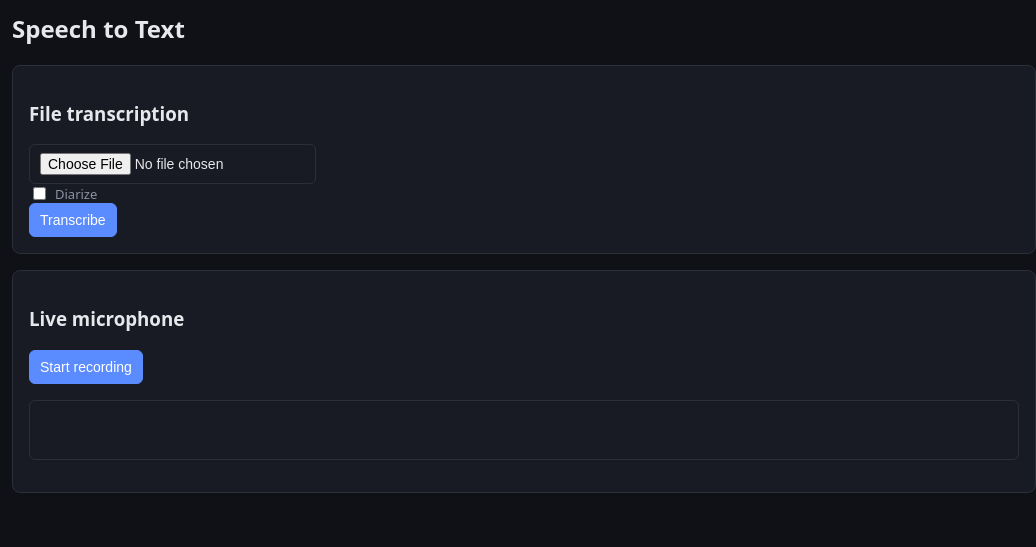
Test case: SttPage › errors when transcribing with no file
Click the button "Transcribe" at (73, 220), box x1=29 y1=203 x2=117 y2=237
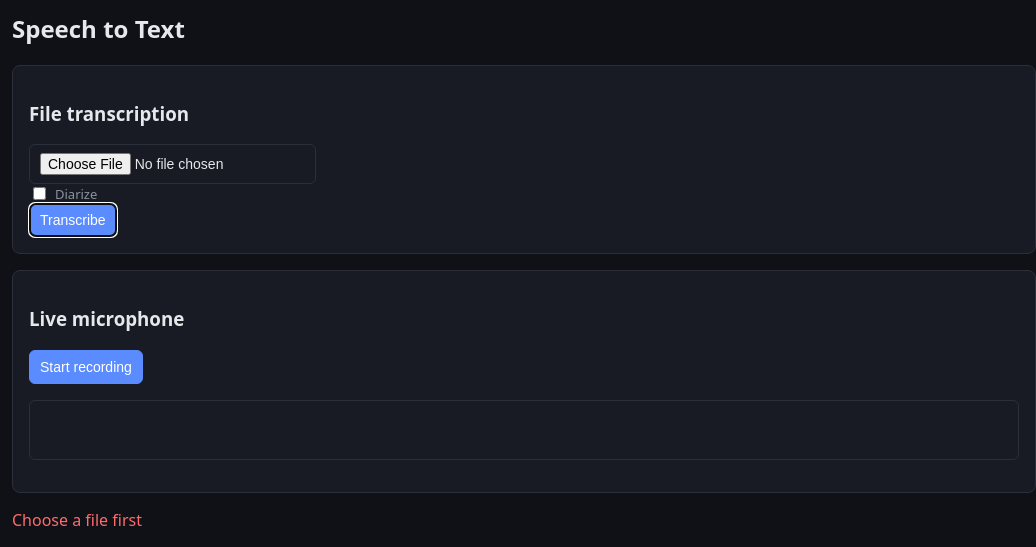
Expected: the message reads "Choose a file first", x1=12 y1=509 x2=142 y2=531
